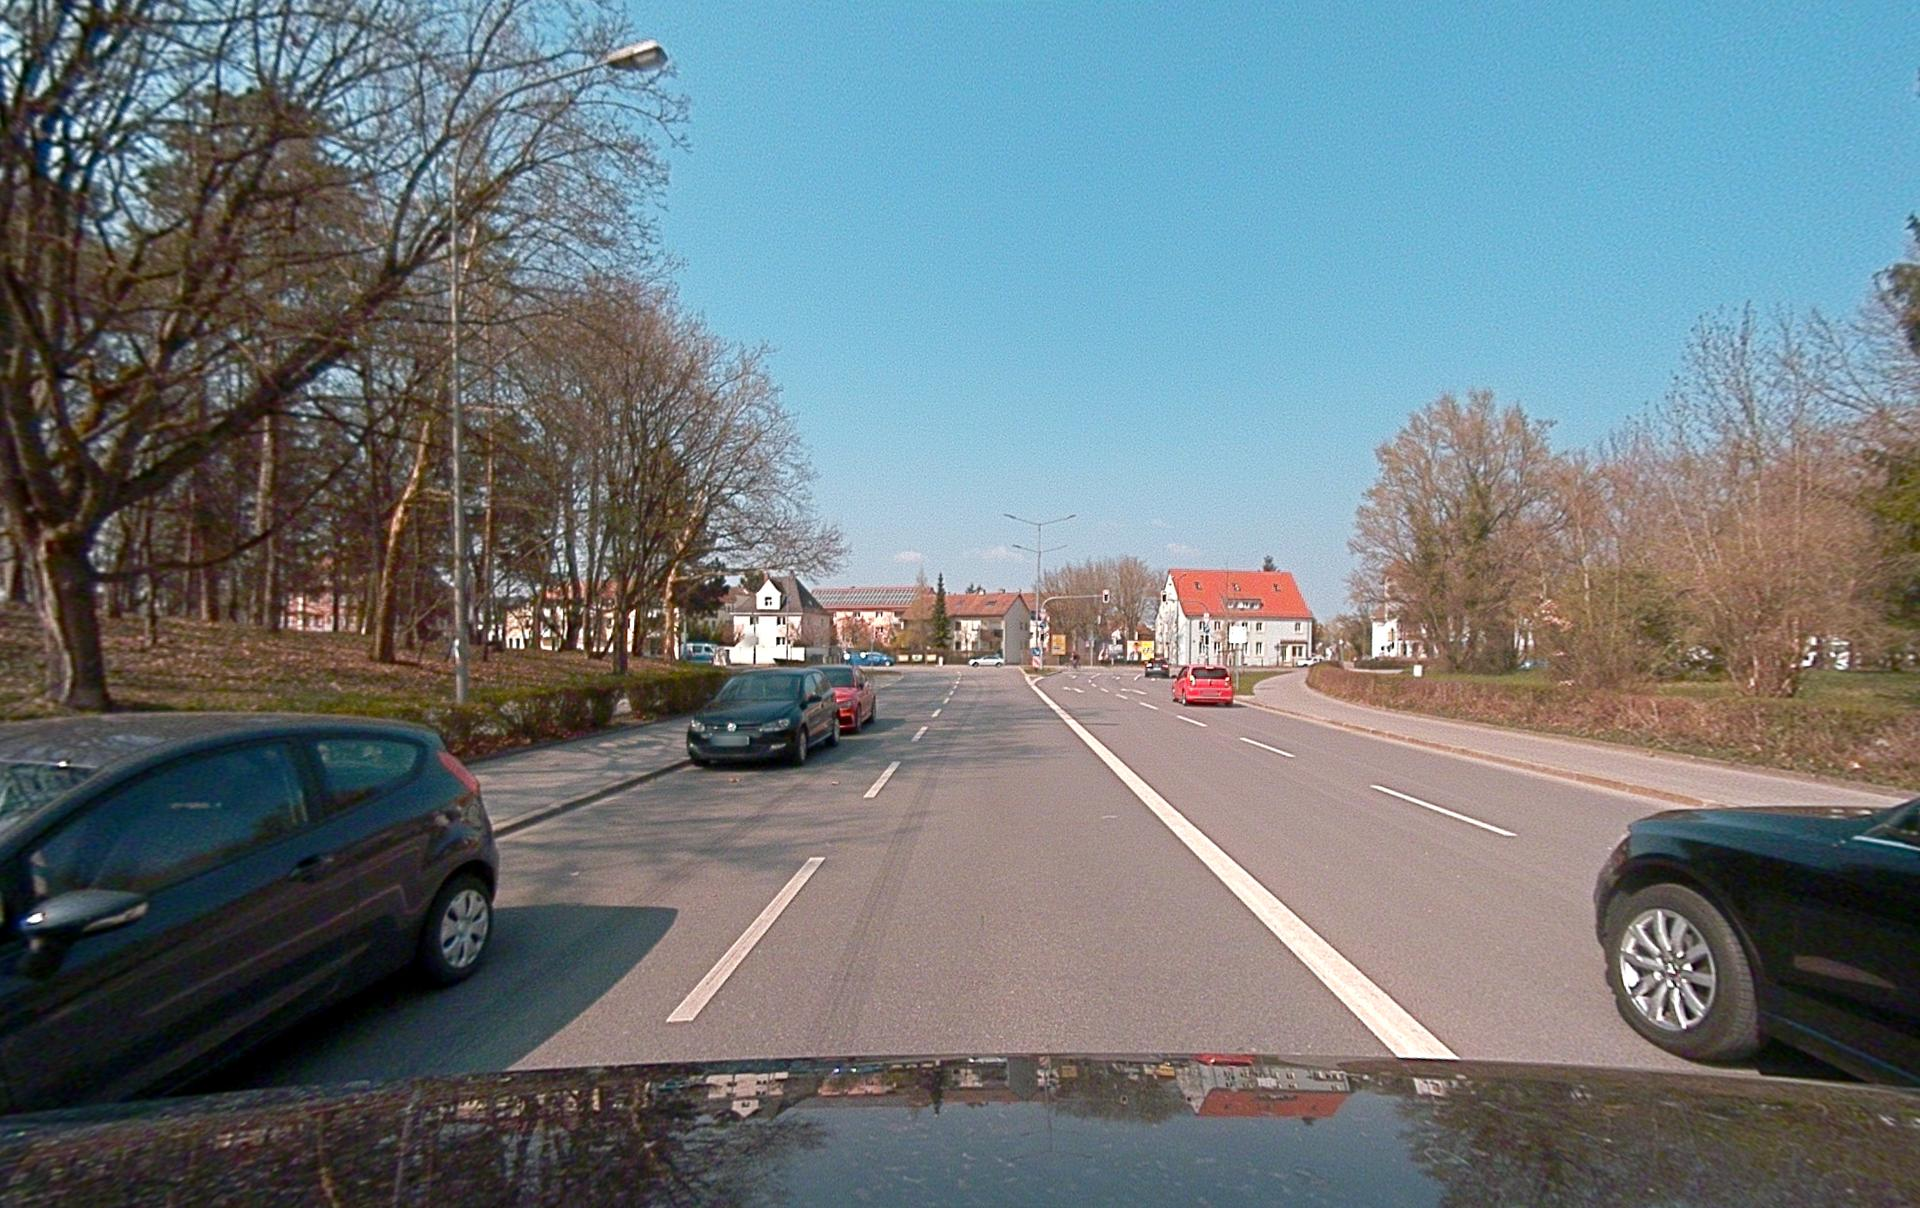car: (0, 711, 499, 1112), (1593, 795, 1920, 1087), (686, 667, 840, 767), (810, 664, 877, 732), (1173, 664, 1234, 707), (843, 651, 893, 667), (970, 654, 1005, 667), (1145, 660, 1169, 678)
